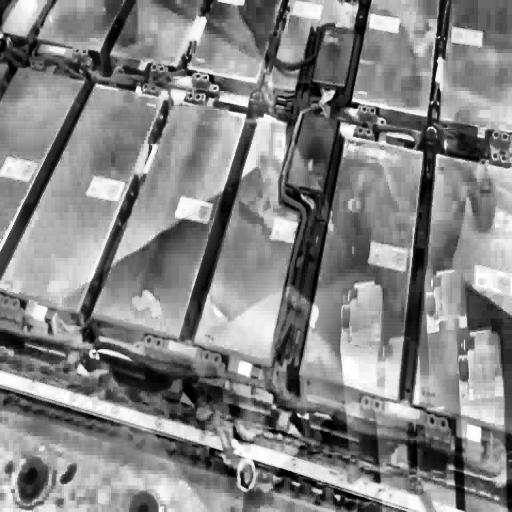busbar: (342, 389, 462, 450), (128, 330, 230, 376), (143, 56, 220, 107), (25, 32, 94, 77)
high_volt_cable: (269, 89, 336, 392), (426, 0, 475, 147), (260, 0, 294, 113)
low_volt_cable: (0, 183, 499, 478), (271, 18, 342, 77)
